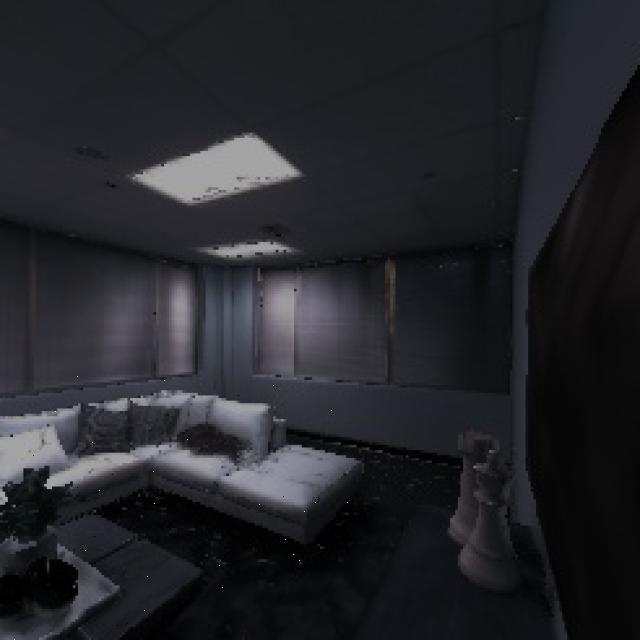sofa: (0, 357, 372, 567)
table: (0, 468, 229, 640)
